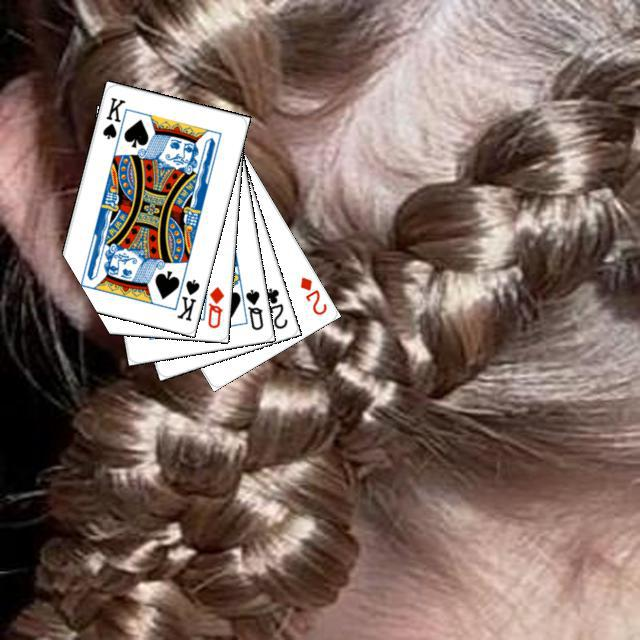2c: (259, 283, 289, 331)
2d: (295, 272, 329, 317)
Ks: (97, 93, 129, 147), (172, 274, 201, 323)
Qd: (203, 282, 225, 330)
Qs: (241, 284, 265, 332)
